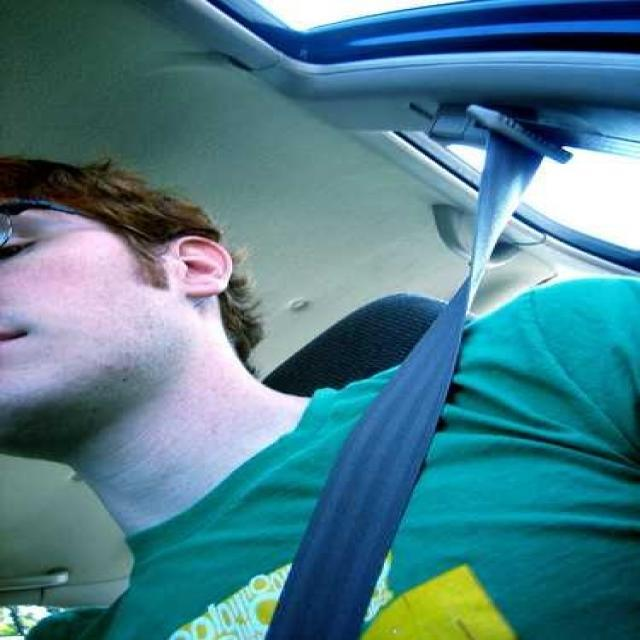seatbelt: (242, 100, 568, 617)
